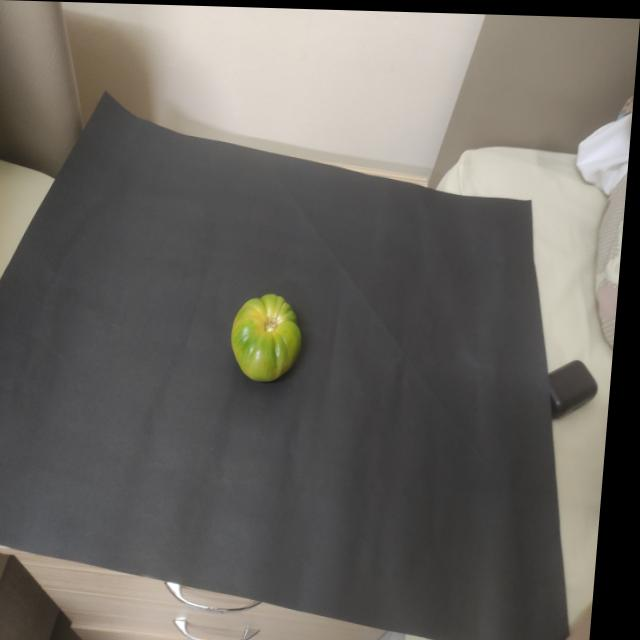yesil: (222, 282, 320, 389)
